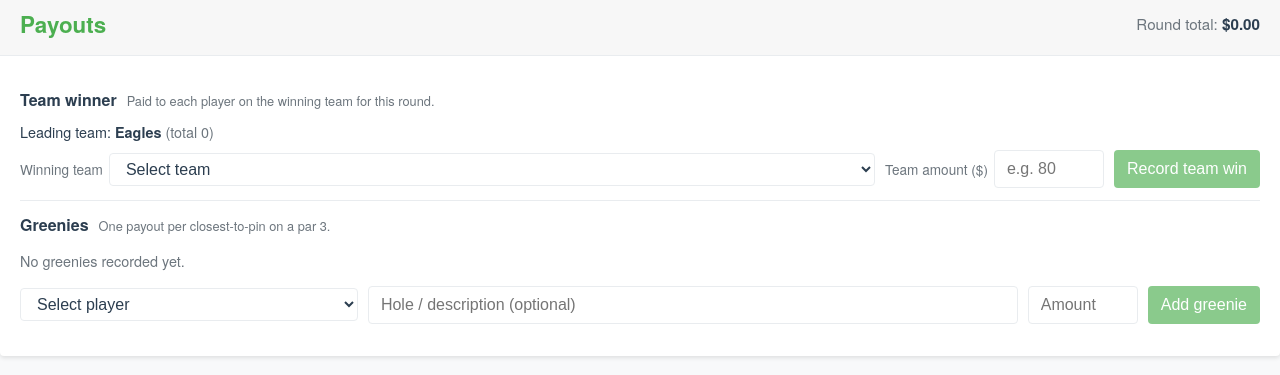
Test case: RoundPayouts - button enable/disable › "Add greenie" is enabled when player + amount present
The width and height of the screenshot is (1280, 375).
Select "Alice Smith — Eagles" in the 2nd dropdown: (189, 305) [20,288,358,321]
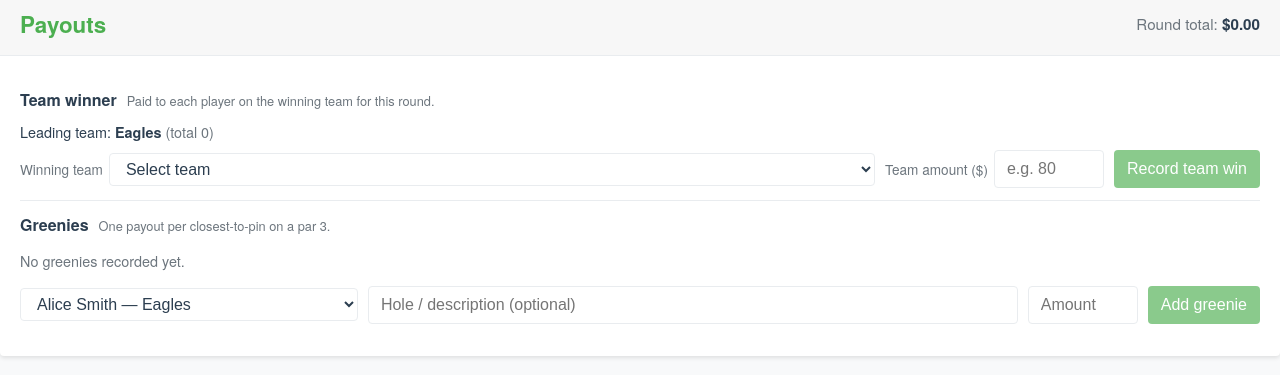
In the number field with placeholder "Amount": (1083, 305) [1028,286,1138,324], type "25"
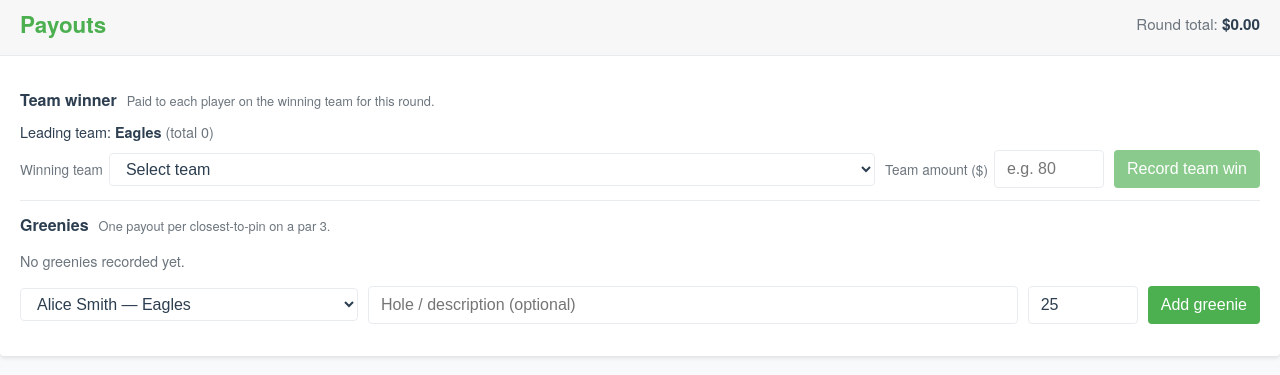
Expected: the button "Add greenie" is enabled, [1148,286,1260,324]
